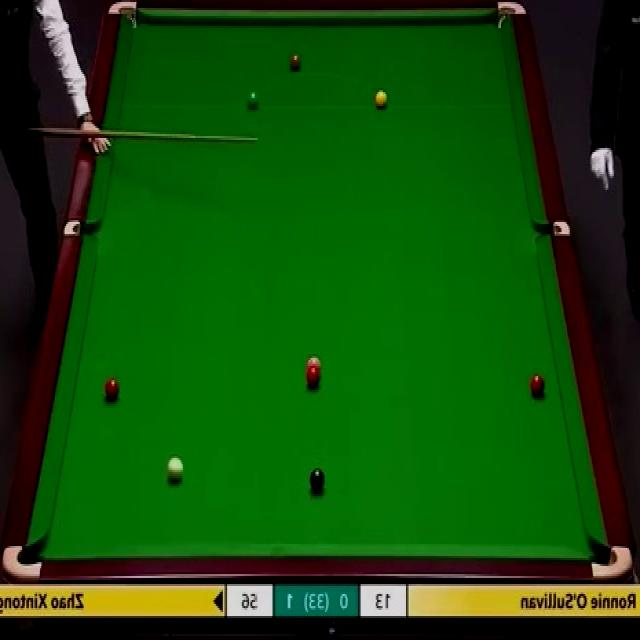black-ball: (308, 468, 326, 494)
brown-ball: (289, 52, 302, 72)
green-ball: (247, 89, 260, 110)
pink-ball: (306, 356, 322, 370)
red-ball: (529, 372, 545, 398), (104, 376, 120, 401), (305, 367, 322, 388)
white-ball: (168, 458, 185, 482)
yellow-ball: (373, 91, 386, 111)
